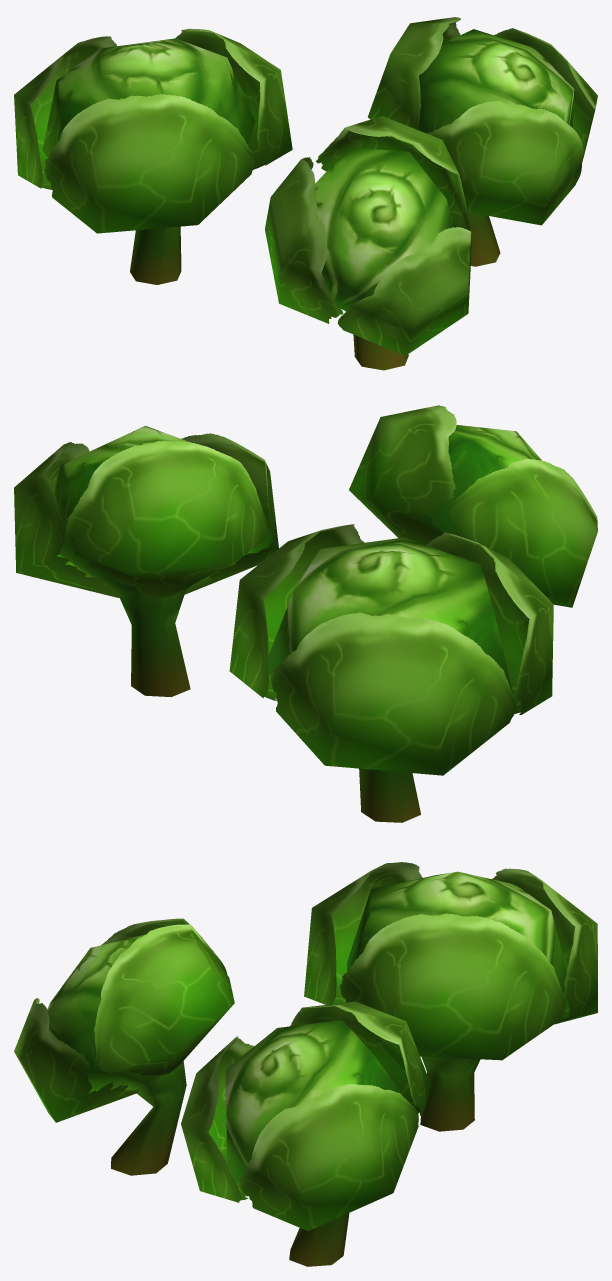
The model's file is cabbage_stage2.FBX.
The picture shows the model from 3 angles, top to bottom: view 1: azimuth 30°, elevation 25°; view 2: azimuth 150°, elevation 25°; view 3: azimuth 270°, elevation 25°; orthographic projection. The views are drawn at different scales.
Visible parts, largest first — view 1: cabbage_stage2; view 2: cabbage_stage2; view 3: cabbage_stage2.
Part boxes in pixels (x1=…): cabbage_stage2: x1=14, y1=17, x2=597, y2=370; cabbage_stage2: x1=14, y1=405, x2=597, y2=822; cabbage_stage2: x1=14, y1=862, x2=597, y2=1266.
Size of the model in its own units: 3.97 by 1.86 by 3.86.
Materials: 1 (1 with a texture image).
